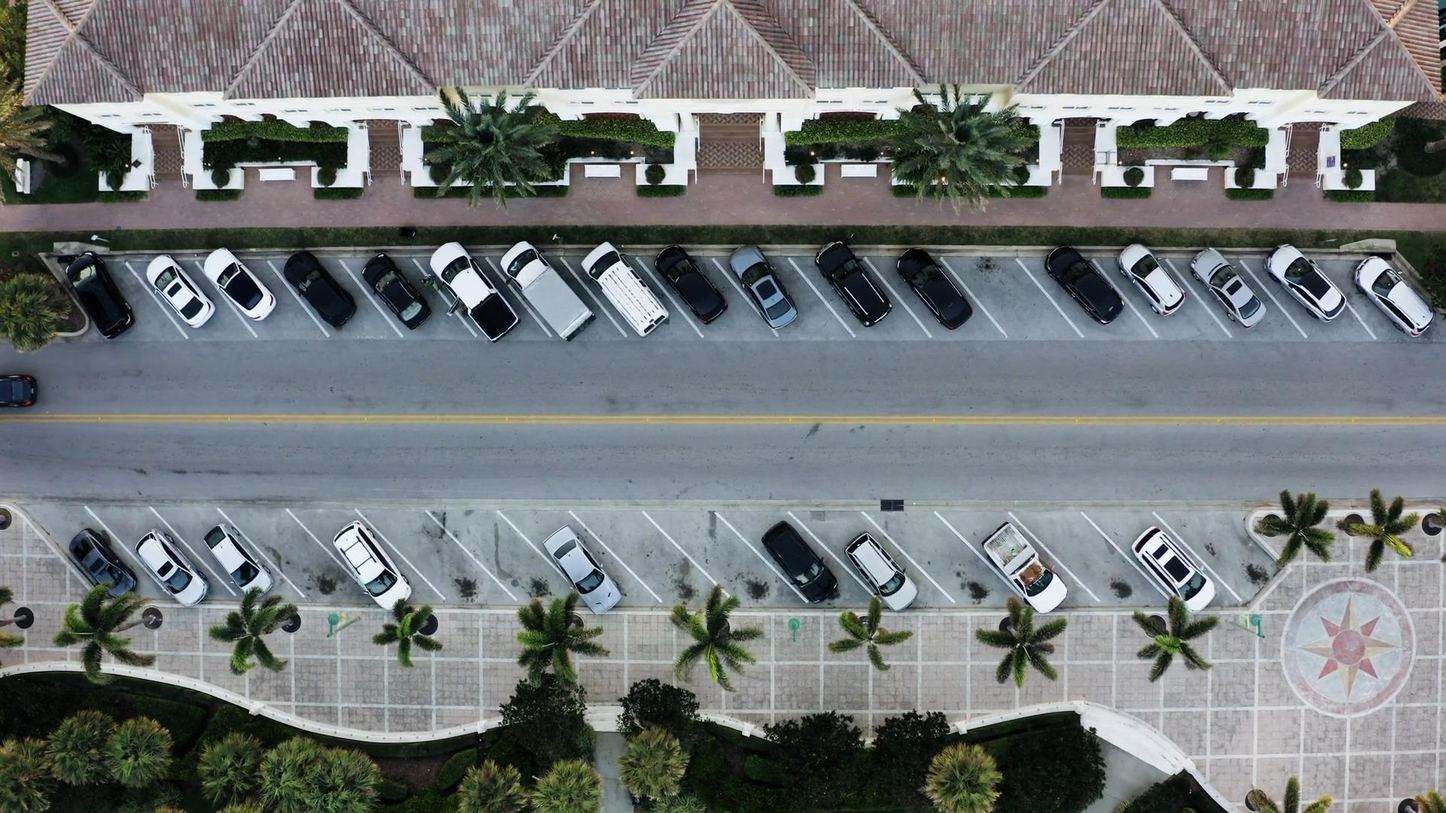free: (427, 513, 585, 606), (249, 523, 407, 616), (583, 508, 741, 601), (660, 507, 818, 600), (938, 257, 1096, 350), (354, 508, 511, 601), (871, 519, 1028, 612), (1015, 515, 1172, 608), (1153, 486, 1310, 579)
occupied: (641, 244, 775, 335), (430, 242, 520, 342), (1131, 526, 1215, 610), (545, 526, 624, 614), (815, 240, 890, 327), (895, 246, 972, 330), (1352, 256, 1435, 333), (336, 524, 413, 606), (764, 521, 840, 604), (61, 251, 133, 337), (1043, 246, 1120, 326), (1194, 248, 1269, 327), (282, 250, 356, 329), (359, 251, 432, 331), (847, 532, 919, 610), (143, 530, 217, 604), (511, 260, 576, 331), (70, 530, 138, 597), (1118, 246, 1183, 316), (1267, 251, 1332, 321), (197, 265, 261, 336), (153, 257, 217, 327), (195, 517, 259, 587), (1017, 558, 1069, 612), (581, 241, 628, 286), (0, 373, 38, 407)
